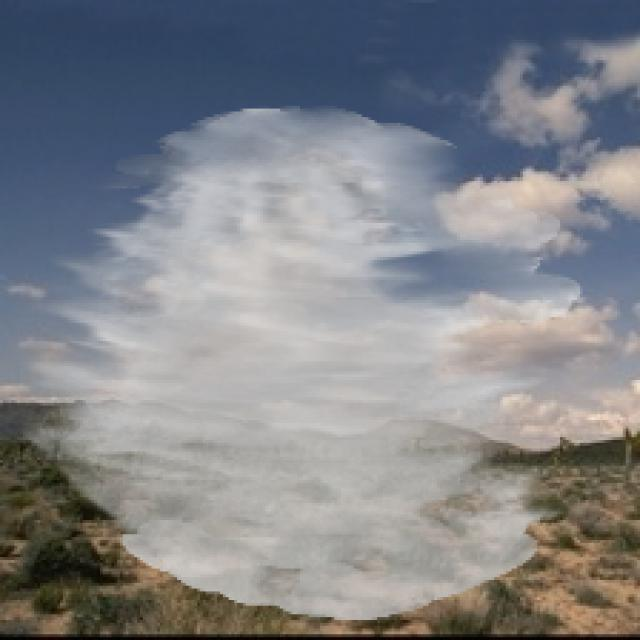smoke: (17, 106, 583, 620)
